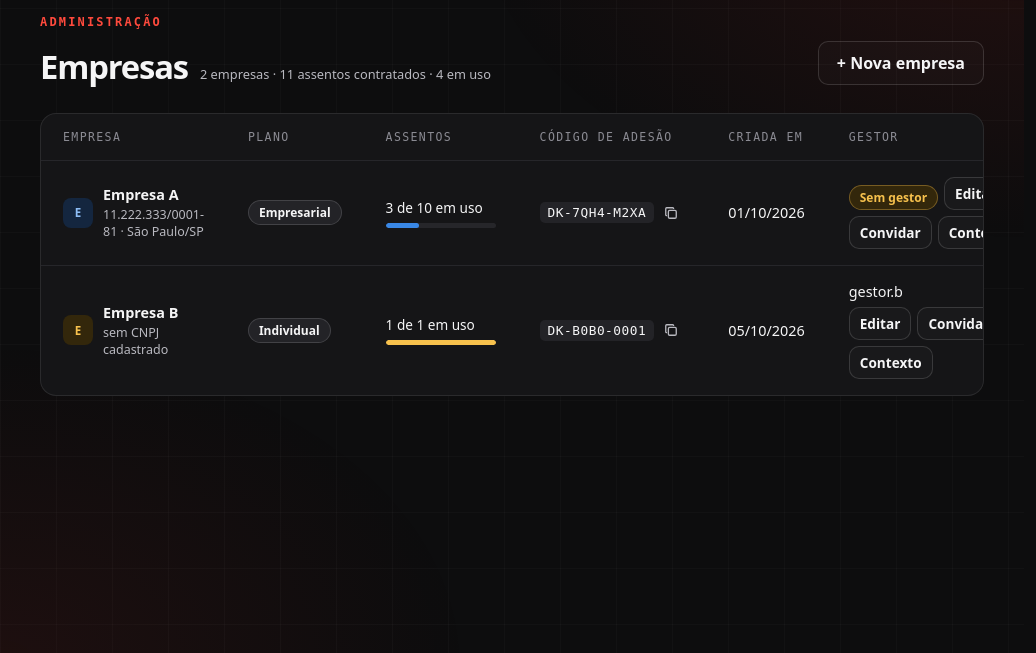
Test: Empresas (US #381; visual da US #461) › o painel Contexto (US #663): o admin promove e descarta a sugestão do agente pelas rotas dele
Click the button with aria-label "Contexto de Empresa A": (980, 232) [938,216,1021,249]
(page scrolled)
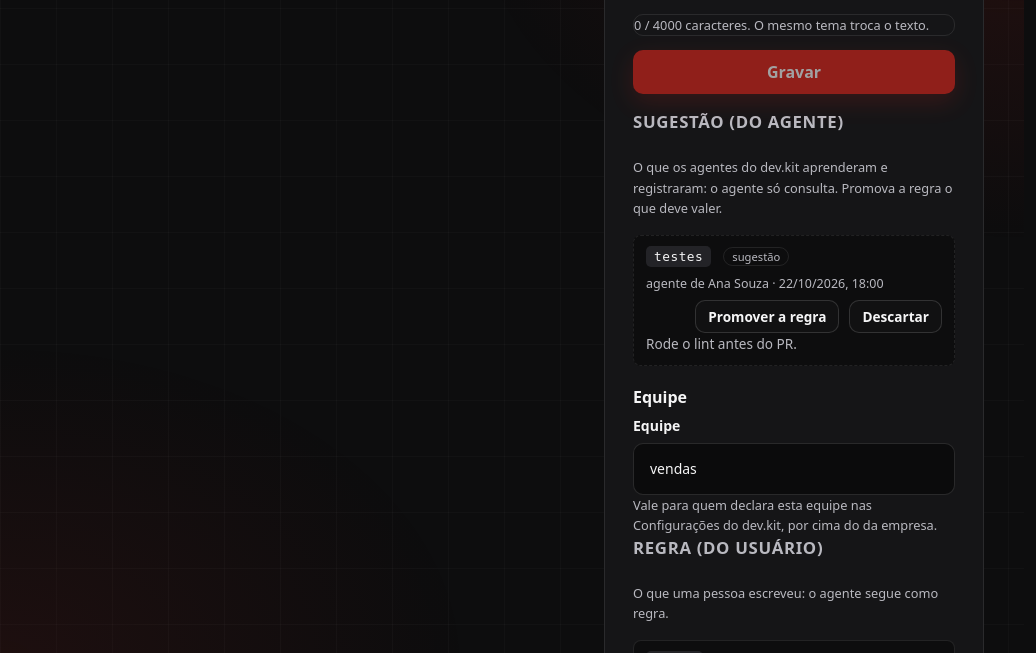
Result: the text "Rode o lint antes do PR." is shown at [646,334,797,353]
Click the button with aria-label "Promover a regra a sugestão testes": (767, 316) [695,300,840,333]
(page scrolled)
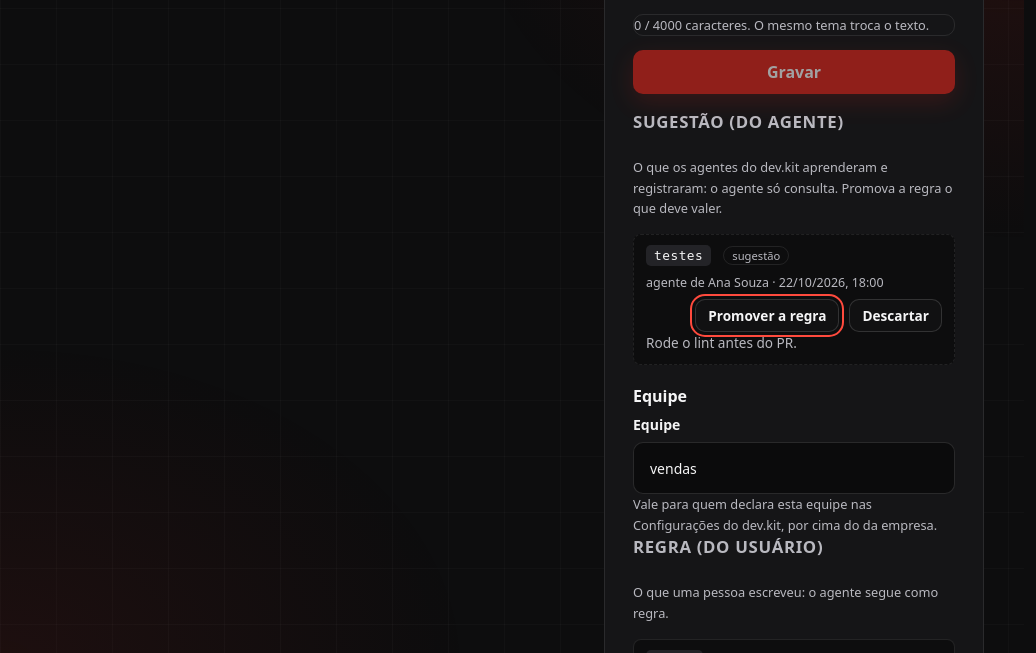
Click the button with aria-label "Descartar a sugestão testes": (896, 316) [850,300,942,332]
(page scrolled)
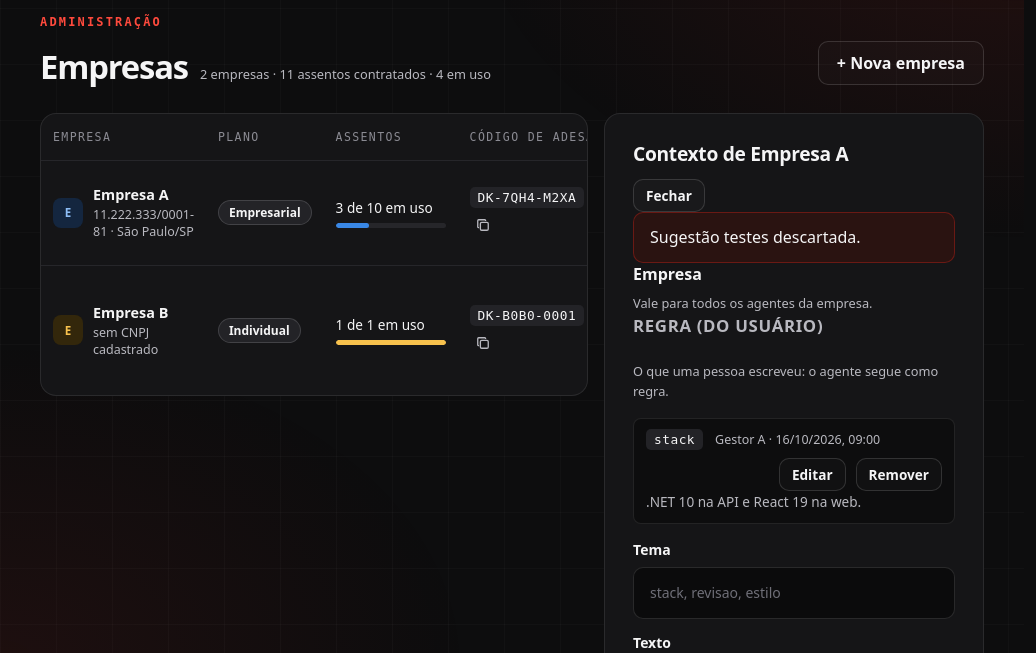
Result: the text "Sugestão testes descartada." is shown at [633,212,955,264]
